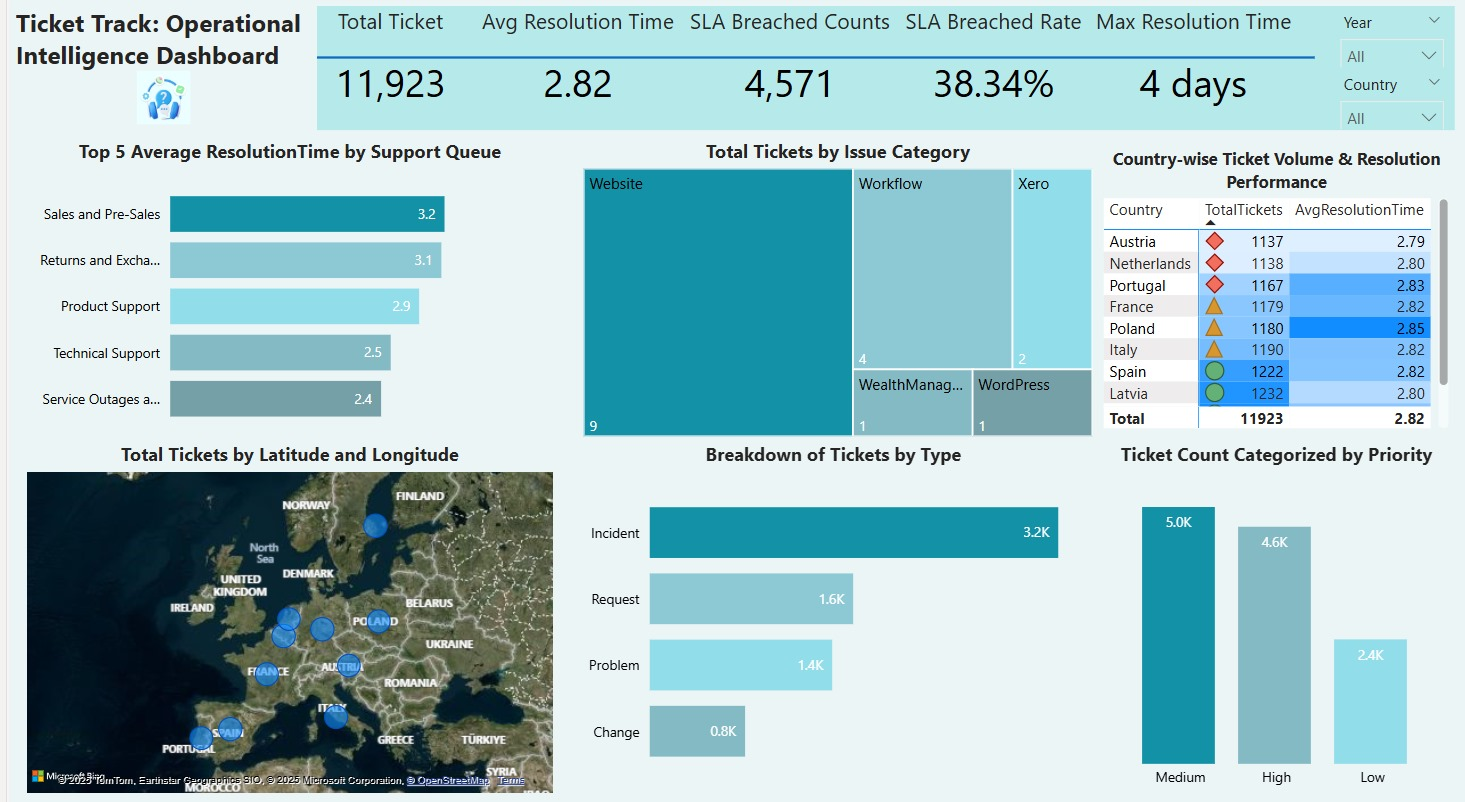

The dashboard page shown, as its layout file describes it:
{"tool":"powerbi","page":{"name":"Dashboard","canvas":[1280,720],"ordinal":0},"visuals":[{"type":"shape","box":[269.6,9.8,999.3,109.1],"z":0},{"type":"card","title":"Total Ticket","fields":{"Values":["Measures (2).TotalTickets"]},"box":[261.7,9.7,144.9,108.9],"z":1000},{"type":"card","title":"Avg Resolution Time","fields":{"Values":["Measures (2).AvgResolutionTime"]},"box":[407.4,9.7,182.6,108.9],"z":2000},{"type":"card","title":"SLA Breached Counts","fields":{"Values":["Measures (2).SLABreachCount"]},"box":[590.9,9.7,187.9,108.9],"z":3000},{"type":"card","title":"SLA Breached Rate","fields":{"Values":["Measures (2).SLABreachRate"]},"box":[780.6,9.7,166,108.9],"z":4000},{"type":"card","title":"Max Resolution Time","fields":{"Values":["Measures (2).MaxResolutionTime"]},"box":[947.4,9.7,183.5,108.9],"z":5000},{"type":"shape","box":[269.6,45.7,876.3,18.4],"z":6000},{"type":"barChart","title":"Top 5 Average ResolutionTime by Support Queue","fields":{"Category":["DimQueue.Support Queue"],"Y":["Measures (2).AvgResolutionTime"]},"box":[9.7,126.4,472.4,266],"z":7000},{"type":"treemap","title":"Total Tickets by Issue Category","fields":{"Group":["DimCategory.Issue Category"],"Values":["Measures (2).TotalTickets"]},"box":[498.7,126.4,456.6,266],"z":8000},{"type":"map","title":"Total Tickets by Latitude and Longitude","fields":{"Y":["DimCountry.Latitude"],"X":["DimCountry.Longitude"],"Size":["Measures (2).TotalTickets"]},"box":[9.7,392.5,472.4,312.6],"z":9000},{"type":"barChart","title":"Breakdown of Tickets by Type","fields":{"Category":["DimType.Ticket Type"],"Y":["Measures (2).TotalTickets"]},"box":[498.7,392.5,448.7,306.4],"z":10000},{"type":"pivotTable","title":"Country-wise Ticket Volume & Resolution Performance","fields":{"Rows":["DimCountry.Country"],"Values":["Measures (2).TotalTickets","Measures (2).AvgResolutionTime"]},"box":[955.3,133.5,313.5,252],"z":11000},{"type":"clusteredColumnChart","title":"Ticket Count Categorized by Priority","fields":{"Category":["DimPriority.Ticket Priority"],"Y":["Measures (2).TotalTickets"]},"box":[955.3,392.5,313.5,312.6],"z":12000},{"type":"textbox","box":[0,4.4,269.6,114.1],"z":13000},{"type":"image","box":[90.4,61.5,89.6,57.1],"z":14000},{"type":"slicer","fields":{"Values":["Calendar.Year"]},"box":[1158.1,9.7,110.6,54.4],"z":15000},{"type":"slicer","fields":{"Values":["DimCountry.Country"]},"box":[1158.1,64.1,110.6,54.4],"z":16000}]}

Visuals, with their boxes in screenshot pixels (x1, y1, x2, y2), scaled from the page's 1280x720 canvas onto the 1465x802 screenshot:
shape: x1=309, y1=11, x2=1452, y2=132
"Total Ticket" card: x1=300, y1=11, x2=465, y2=132
"Avg Resolution Time" card: x1=466, y1=11, x2=675, y2=132
"SLA Breached Counts" card: x1=676, y1=11, x2=891, y2=132
"SLA Breached Rate" card: x1=893, y1=11, x2=1083, y2=132
"Max Resolution Time" card: x1=1084, y1=11, x2=1294, y2=132
shape: x1=309, y1=51, x2=1312, y2=71
"Top 5 Average ResolutionTime by Support Queue" barChart: x1=11, y1=141, x2=552, y2=437
"Total Tickets by Issue Category" treemap: x1=571, y1=141, x2=1093, y2=437
"Total Tickets by Latitude and Longitude" map: x1=11, y1=437, x2=552, y2=785
"Breakdown of Tickets by Type" barChart: x1=571, y1=437, x2=1084, y2=778
"Country-wise Ticket Volume & Resolution Performance" pivotTable: x1=1093, y1=149, x2=1452, y2=429
"Ticket Count Categorized by Priority" clusteredColumnChart: x1=1093, y1=437, x2=1452, y2=785
textbox: x1=0, y1=5, x2=309, y2=132
image: x1=103, y1=69, x2=206, y2=132
slicer - Calendar.Year: x1=1325, y1=11, x2=1452, y2=71
slicer - DimCountry.Country: x1=1325, y1=71, x2=1452, y2=132
